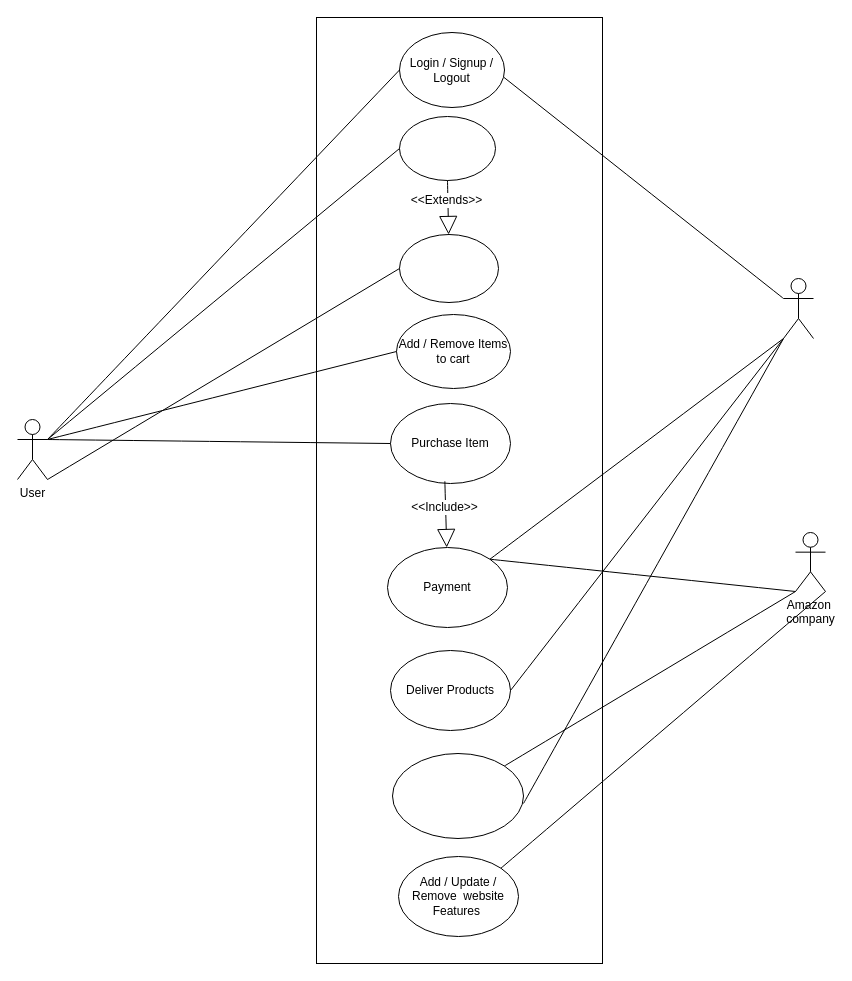
Image size: 852x981. Some labels were removed from this diagram. The shapes that lost their labels are listed below. From the top down, each one's box as (x1, y1, x2, y2) in pixels, then its label:
(398, 116, 496, 180): Search items
(398, 234, 498, 302): View Item details
(782, 278, 814, 338): Seller
(392, 752, 524, 838): Add / Update / Delete Items
